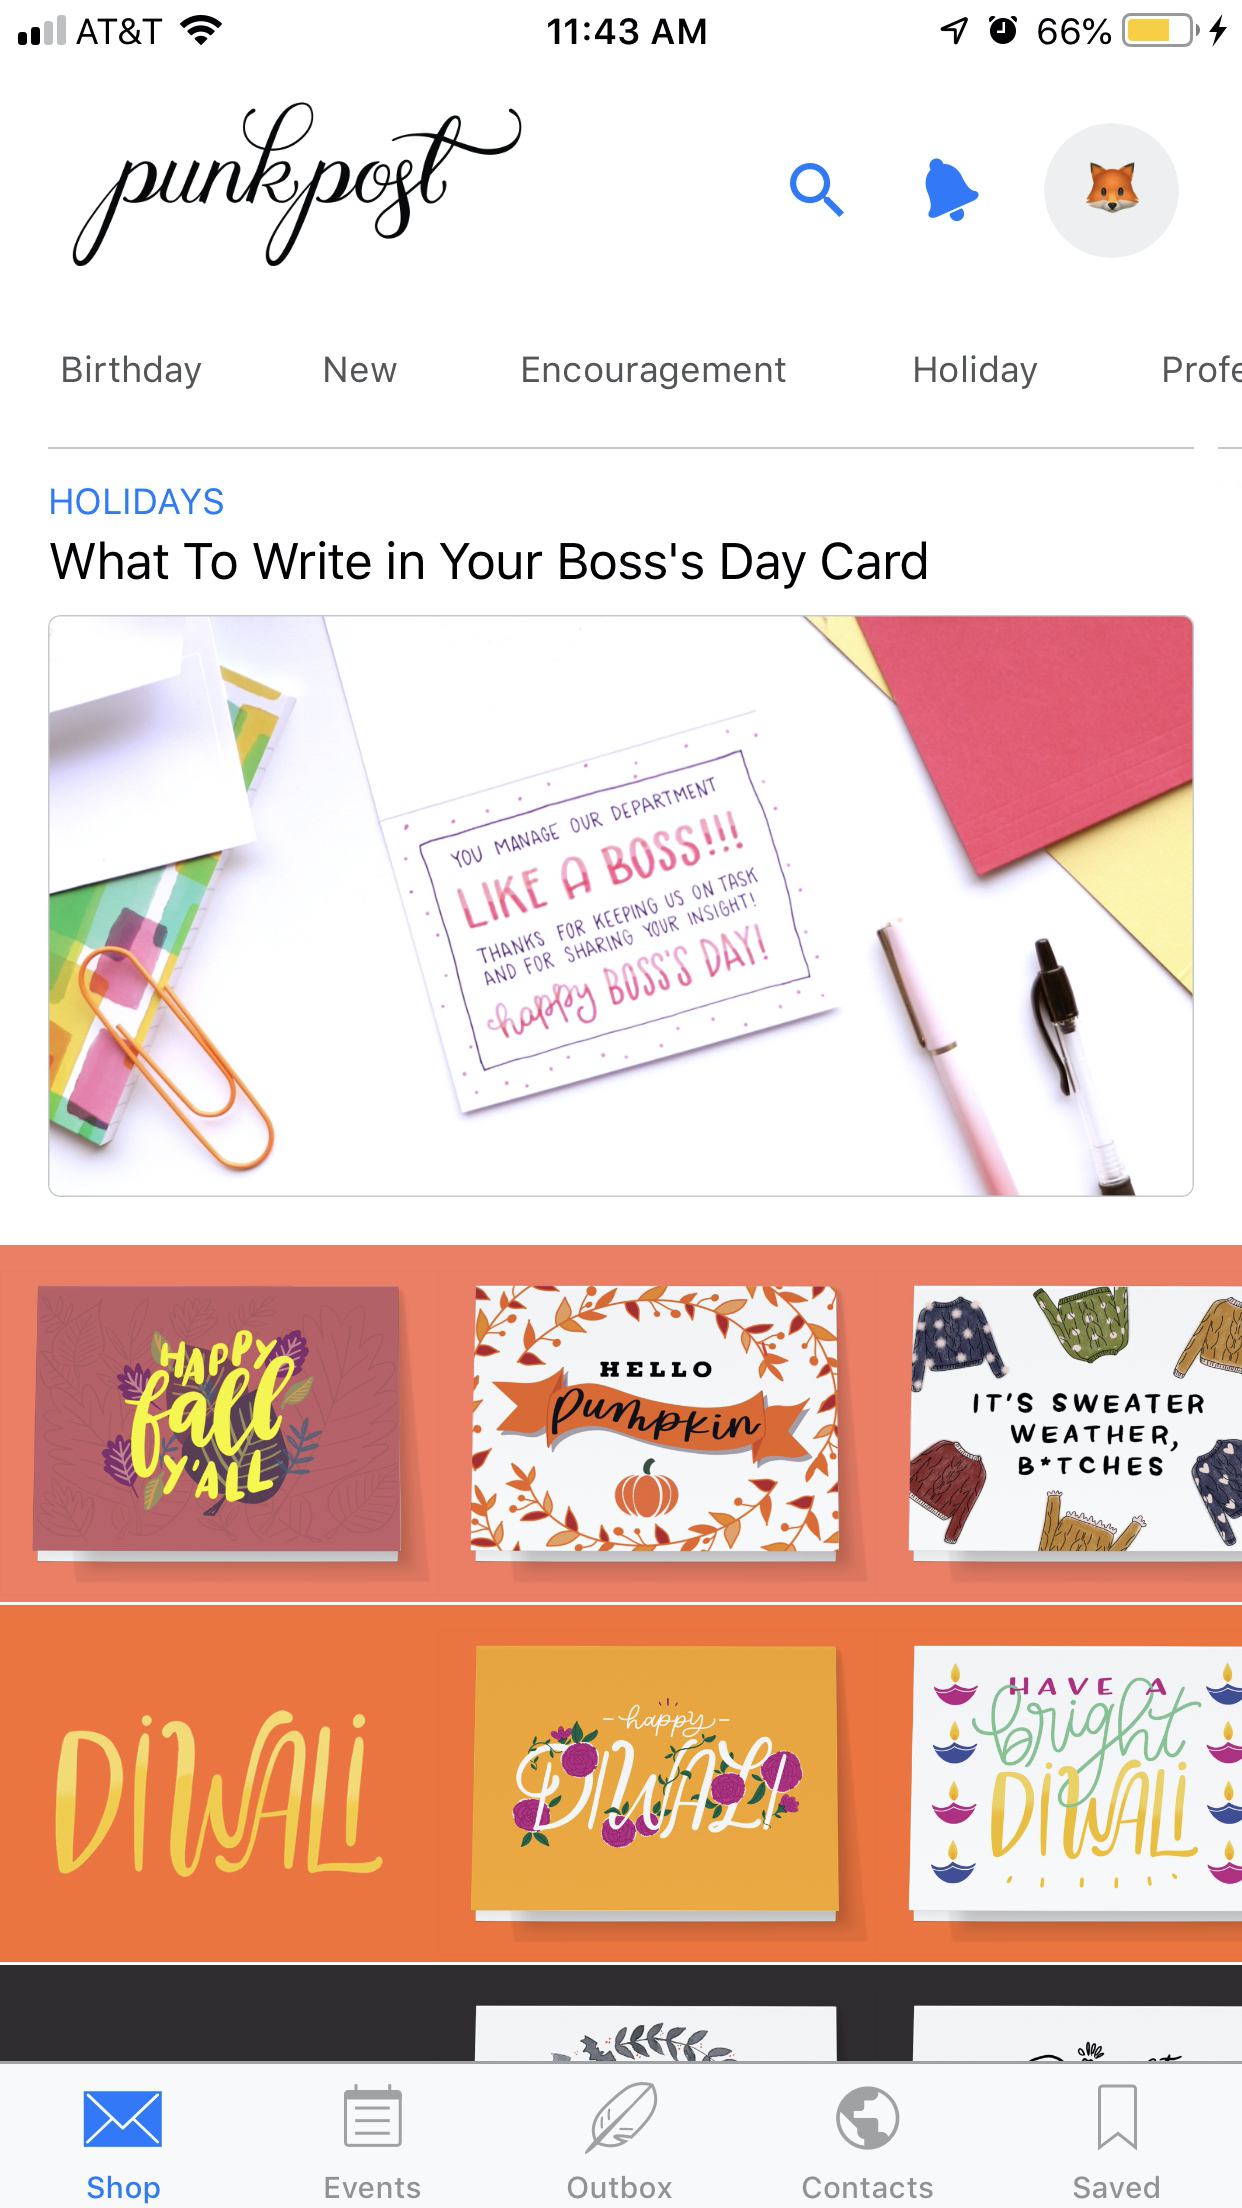Icon: (83, 2090, 164, 2147), (344, 2084, 403, 2147), (924, 159, 980, 224), (790, 162, 845, 218), (1096, 2084, 1137, 2149)
Image: (49, 617, 1195, 1197), (32, 1284, 400, 1563), (470, 1284, 839, 1563), (472, 1645, 842, 1921), (907, 1284, 1242, 1562), (908, 1645, 1242, 1921), (73, 102, 522, 268), (55, 1709, 384, 1880), (1043, 121, 1180, 259), (585, 2081, 660, 2155), (836, 2085, 901, 2150)
Text: (50, 541, 928, 591), (522, 356, 787, 391), (64, 355, 203, 391), (52, 488, 224, 517), (914, 355, 1039, 391), (802, 2175, 934, 2200), (569, 2175, 673, 2200), (1163, 353, 1242, 384), (325, 2176, 422, 2200), (88, 2175, 162, 2205), (1074, 2175, 1160, 2199), (325, 356, 397, 384)
UpperTaskBar: (2, 2, 1242, 49)
